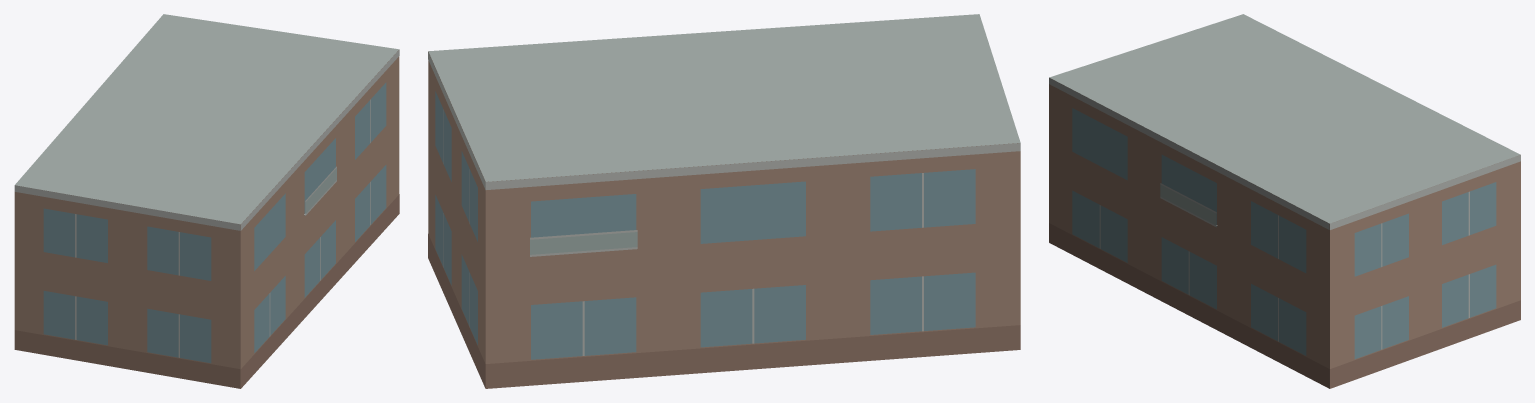
The model's file is survey-upis-32729187.glb.
3 renders of one model, left to right at view 1: azimuth 30°, elevation 25°; view 2: azimuth 150°, elevation 25°; view 3: azimuth 270°, elevation 25°, orthographic. The views are drawn at different scales.
Parts seen in each view (by area): view 1: survey-upis-32729187.tmp; view 2: survey-upis-32729187.tmp; view 3: survey-upis-32729187.tmp.
Part boxes in pixels (x1,y1,x2,y2): survey-upis-32729187.tmp: (14, 14, 399, 388); survey-upis-32729187.tmp: (428, 14, 1020, 388); survey-upis-32729187.tmp: (1049, 14, 1520, 388).
Bounding box in the file's own units: 16.61 × 6.1 × 15.8.
